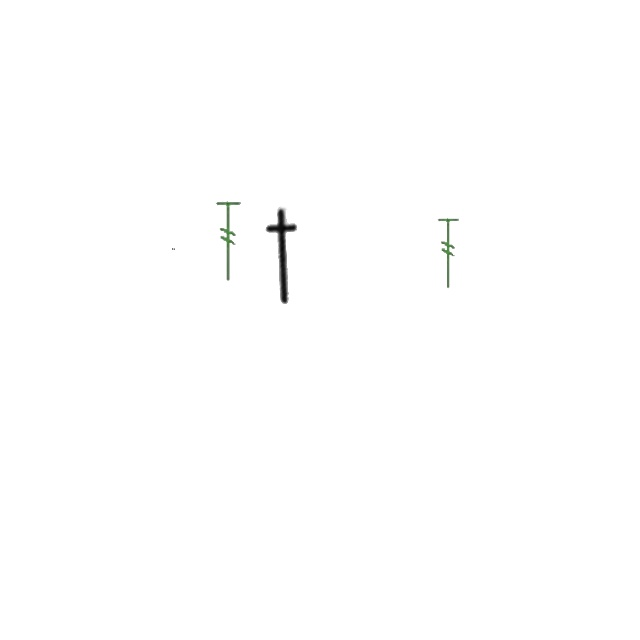chain: (172, 248, 176, 250)
enseble_chain: (254, 206, 314, 306)
fan: (214, 198, 244, 286), (436, 216, 462, 292)
